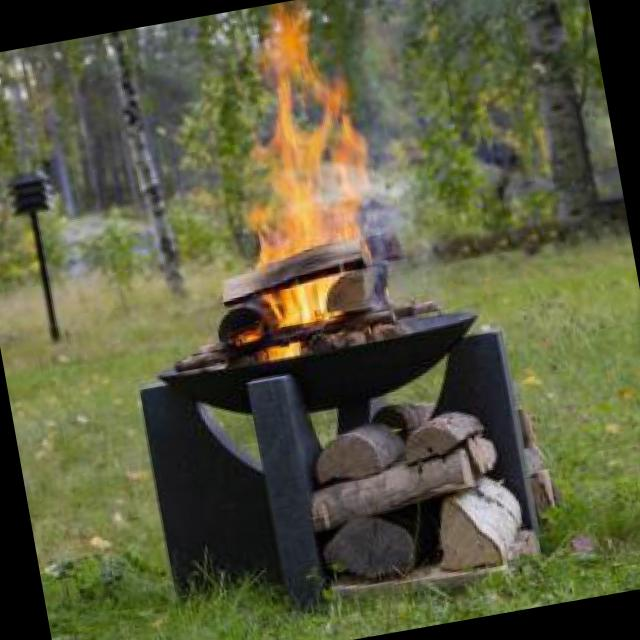fire: (215, 6, 372, 314)
smoke: (335, 0, 492, 299)
